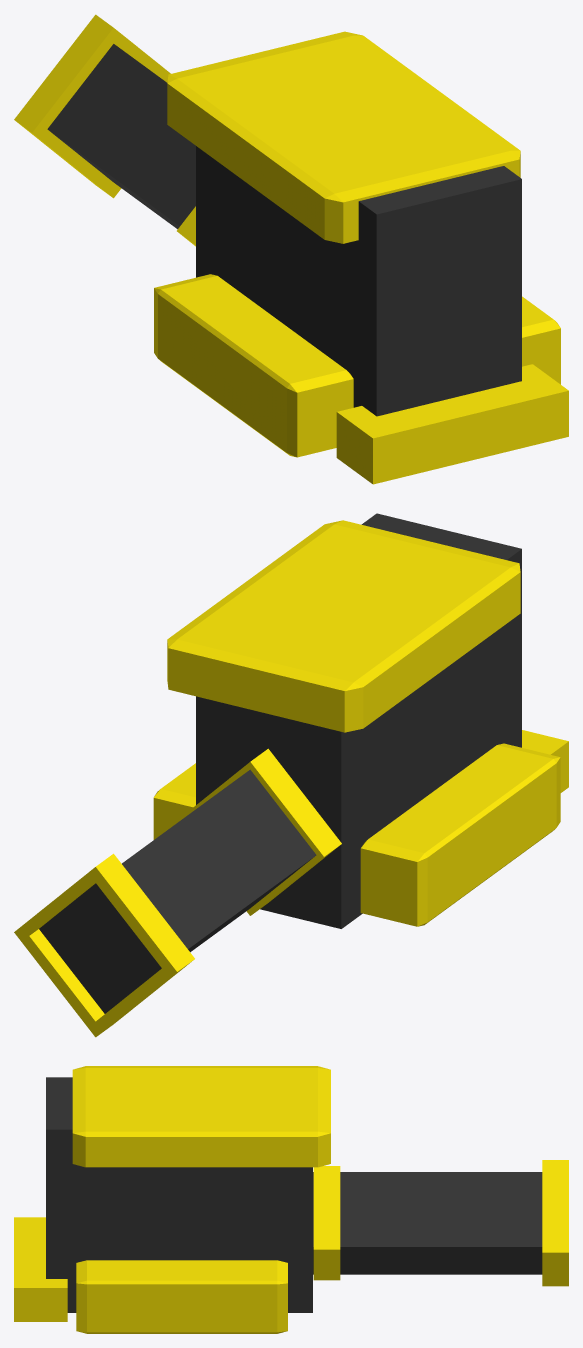
The model's file is fixedTurret.obj.
3 renders of one model, top to bottom at view 1: azimuth 30°, elevation 25°; view 2: azimuth 150°, elevation 25°; view 3: azimuth 270°, elevation 25°, orthographic. The views are drawn at different scales.
Parts seen in each view (by area): view 1: Cube.002; view 2: Cube.002; view 3: Cube.002.
Part boxes in pixels (bbox=[...]): Cube.002: bbox=[14, 14, 568, 484]; Cube.002: bbox=[14, 513, 568, 1037]; Cube.002: bbox=[14, 1066, 568, 1333].
Size of the model in its own units: 0.8633 by 0.7727 by 2.08.
Materials: 2 (2 with a texture image).
